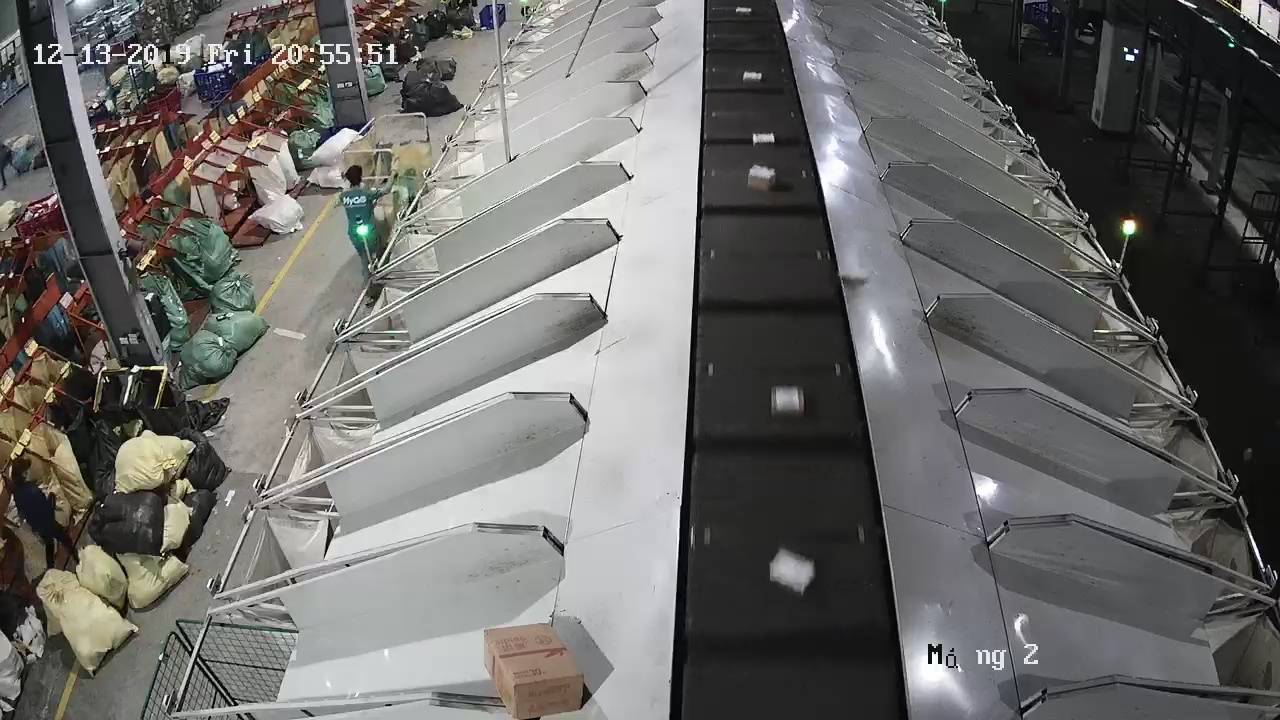parcel: (841, 269, 869, 291)
